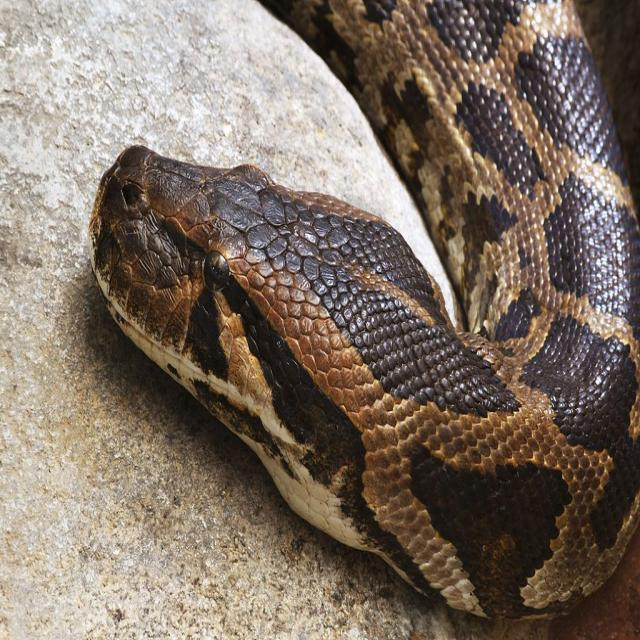Snake: (87, 0, 639, 622)
